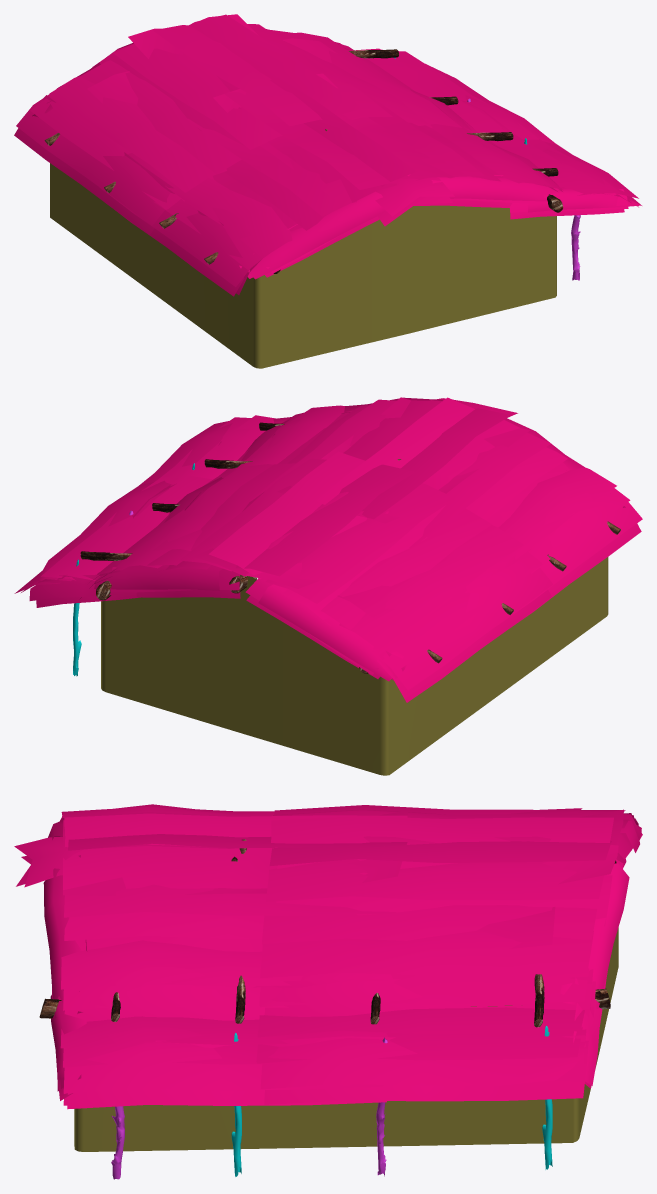
3 renders of one model, top to bottom at view 1: azimuth 30°, elevation 25°; view 2: azimuth 150°, elevation 25°; view 3: azimuth 270°, elevation 25°, orthographic. The views are drawn at different scales.
Parts seen in each view (by area): view 1: OBJ_Ev_1; view 2: OBJ_Ev_1; view 3: OBJ_Ev_1.
Boxes of the visible parts, x1,y1,x2,y2 form: OBJ_Ev_1: (14, 14, 641, 368); OBJ_Ev_1: (14, 397, 642, 775); OBJ_Ev_1: (14, 804, 642, 1179).
Bounding box in the file's own units: 1104 × 440 × 1126.
